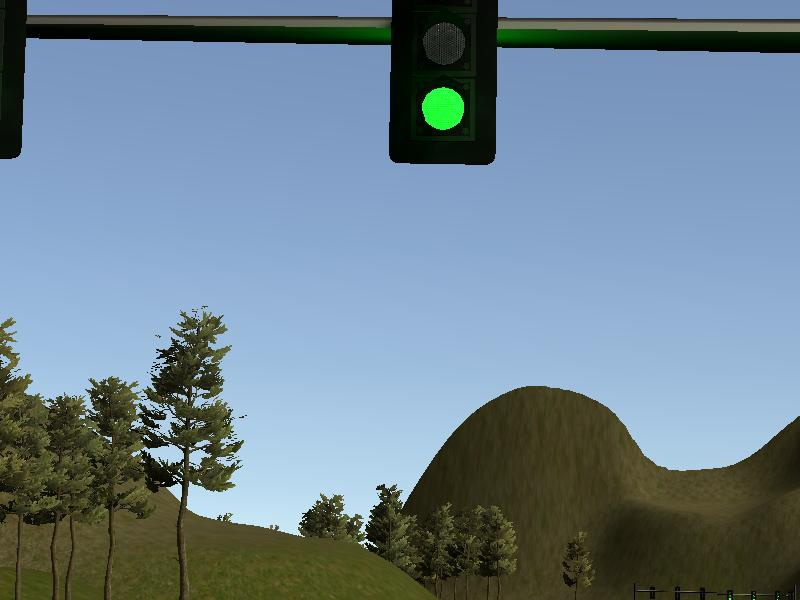Green: (384, 1, 499, 167)
